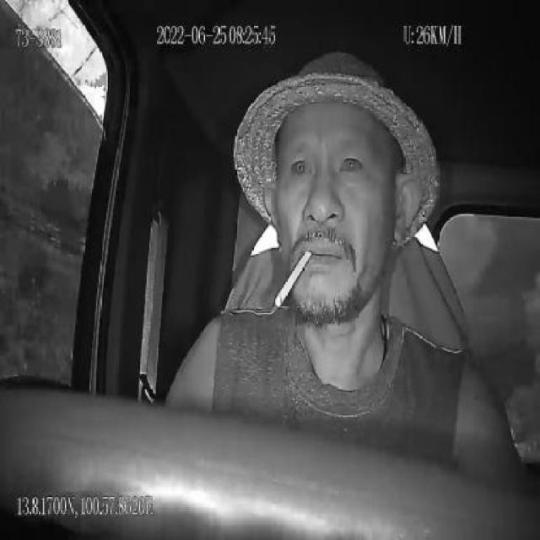smoking: (272, 249, 316, 312)
